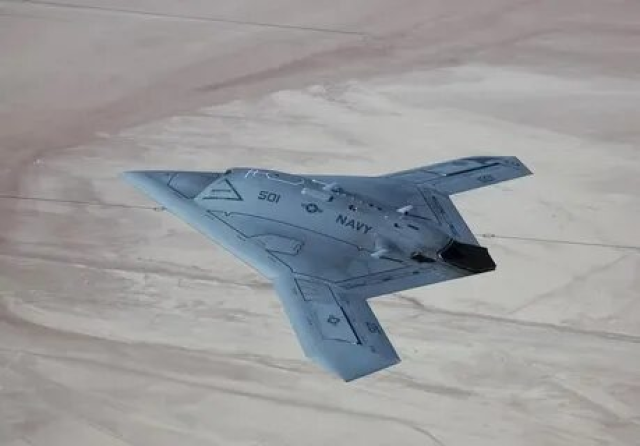military drone: (120, 155, 533, 383)
